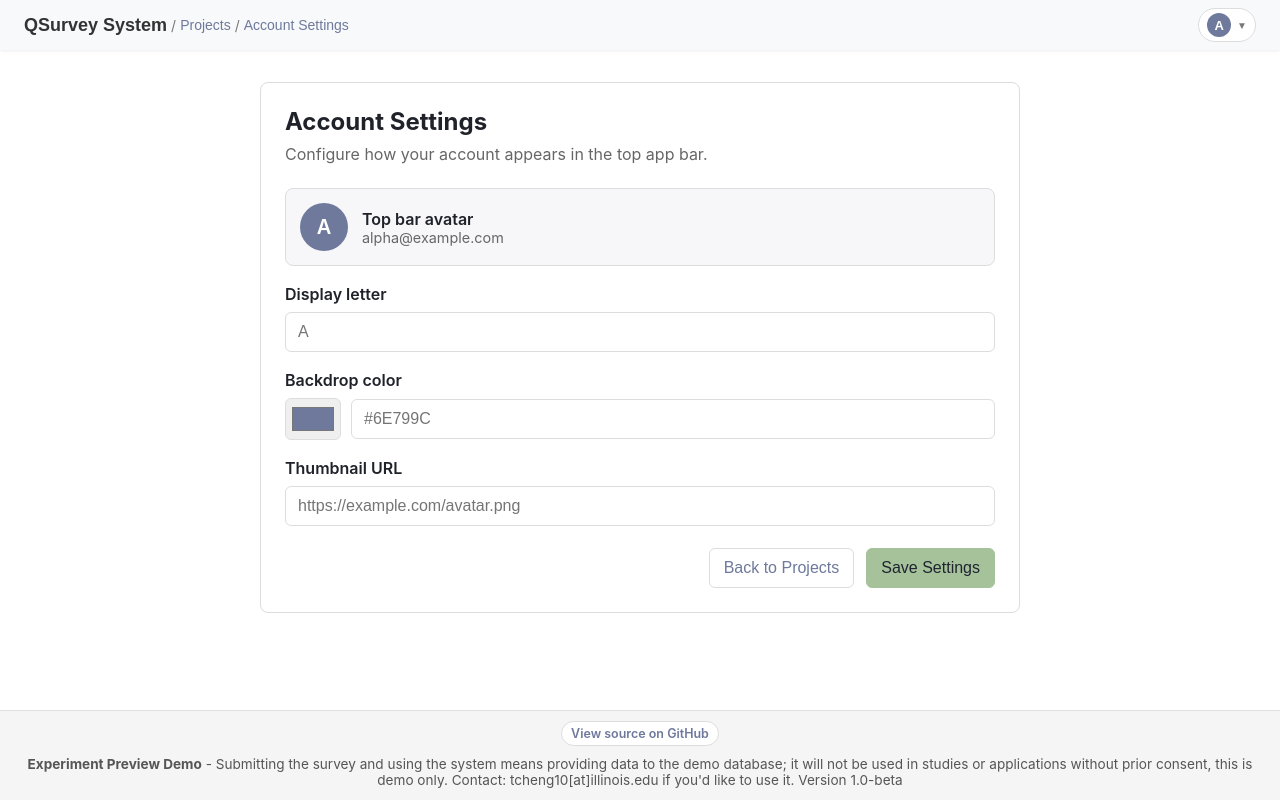
Scenario: AccountSettingsPage › keeps the hash-based backdrop default when no color override is entered
Expected: the field named "Backdrop color hex" is empty, top-left (351, 399), bottom-right (995, 439)
What coordinates should you click on to do the following:
click the button "Save Settings"
I would click on:
 (931, 568)
Its box is top-left (866, 548), bottom-right (995, 588).
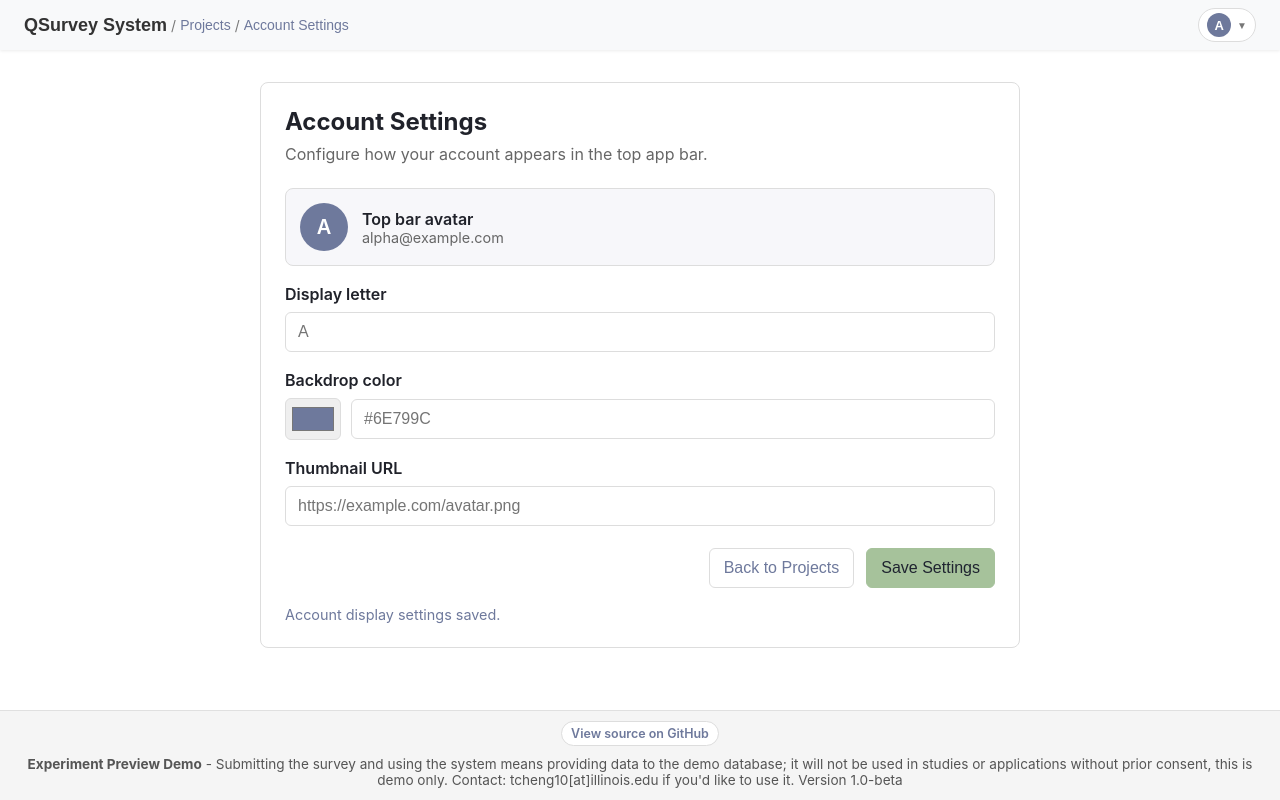
Now the message reads "Account display settings saved.", box top-left (285, 606), bottom-right (500, 623)
